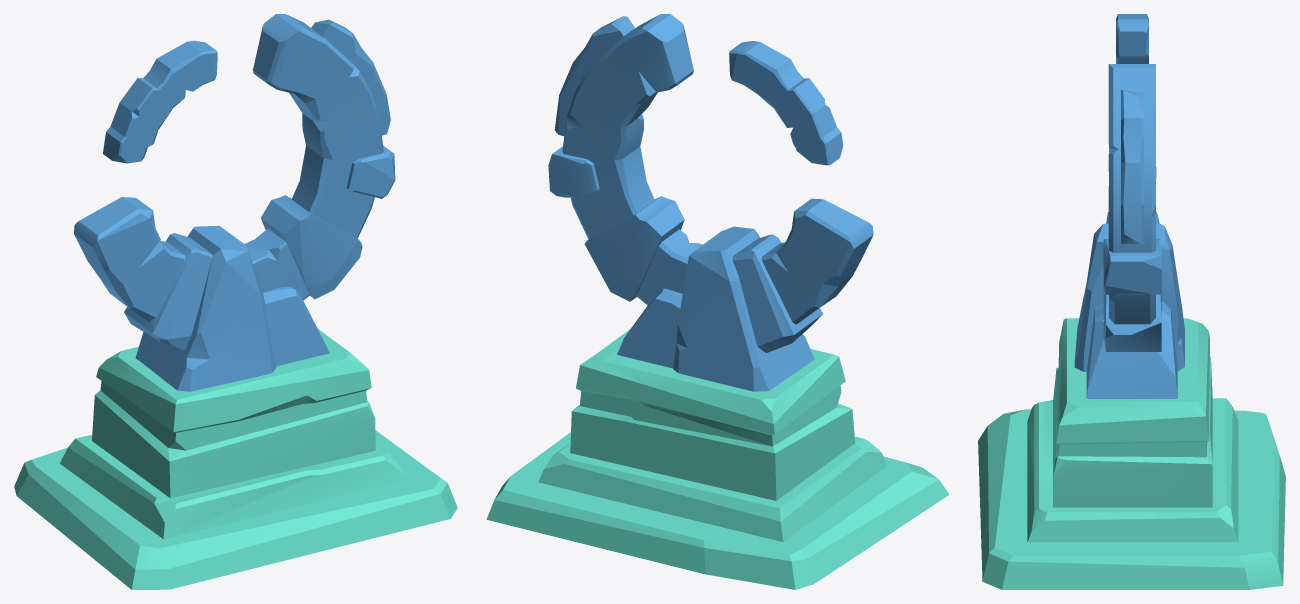
Rendered from stele_01.fbx.
The picture shows the model from 3 angles, left to right: view 1: azimuth 30°, elevation 25°; view 2: azimuth 150°, elevation 25°; view 3: azimuth 270°, elevation 25°; orthographic projection.
Parts seen in each view (by area): view 1: socle, Cylinder.001, Cylinder.003; view 2: socle, Cylinder.001, Cylinder.003; view 3: socle, Cylinder.001, Cylinder.003.
Part boxes in pixels (left/top/right/bottom): socle: left=14, top=329, right=457, bottom=589; Cylinder.001: left=74, top=14, right=395, bottom=391; Cylinder.003: left=103, top=40, right=217, bottom=163; socle: left=486, top=329, right=949, bottom=589; Cylinder.001: left=548, top=14, right=873, bottom=391; Cylinder.003: left=729, top=41, right=843, bottom=165; socle: left=978, top=318, right=1285, bottom=589; Cylinder.001: left=1074, top=64, right=1184, bottom=398; Cylinder.003: left=1116, top=14, right=1148, bottom=63.
Size of the model in its own units: 251 by 339 by 200.
